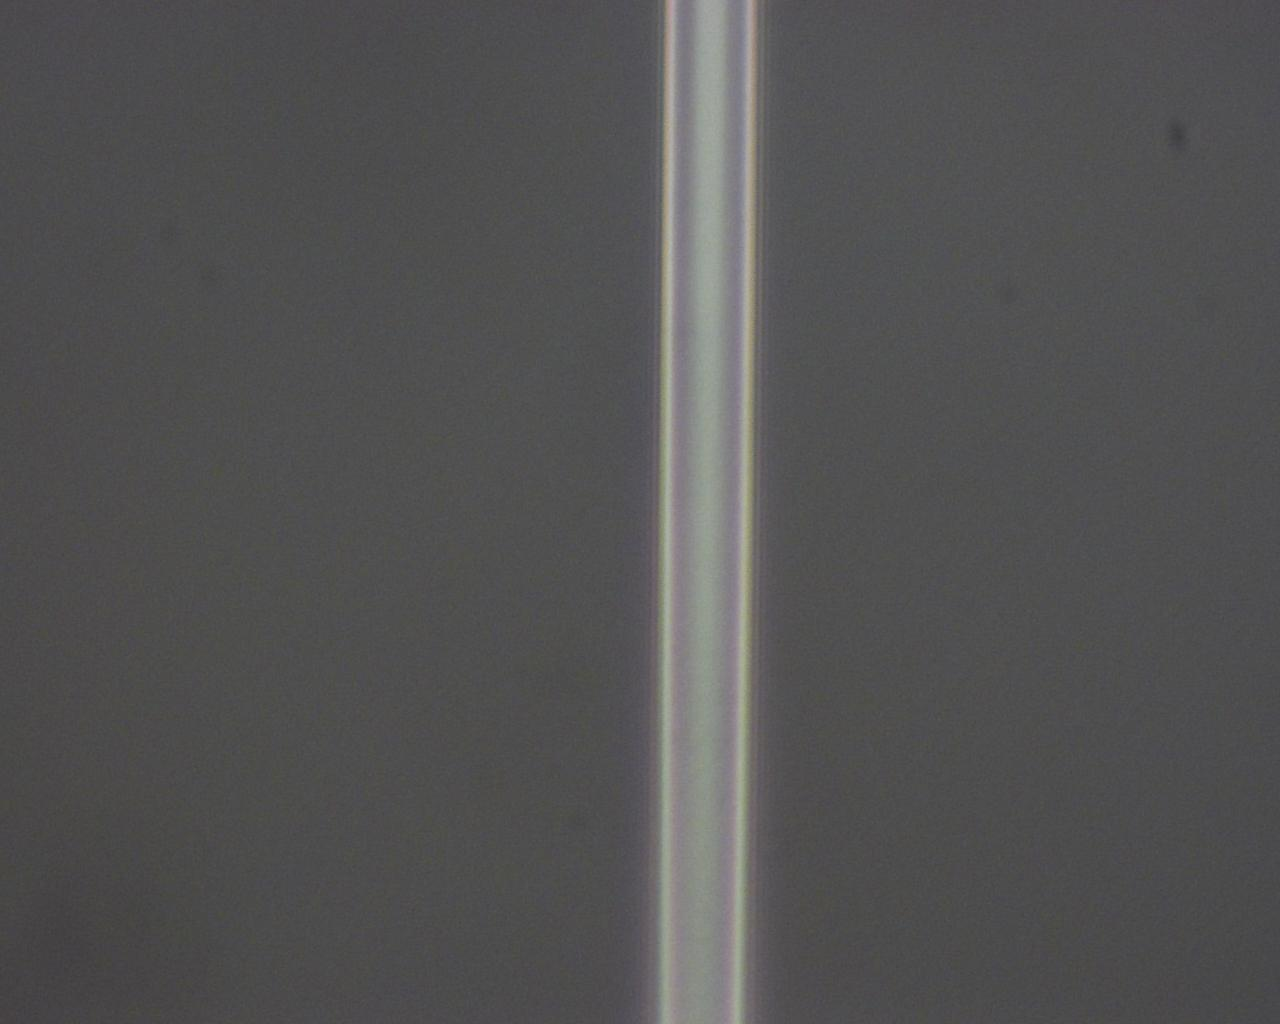fiber: (293, 0, 706, 573), (67, 573, 472, 1024), (832, 573, 1210, 1024), (832, 374, 1280, 443)
